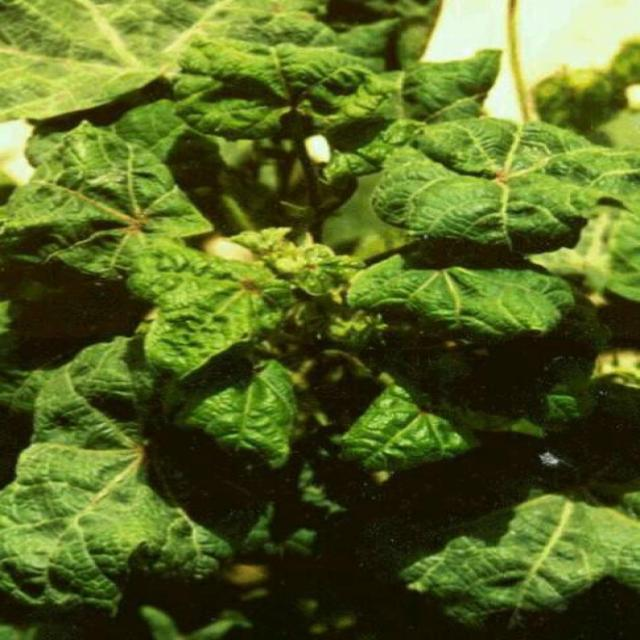Leaf Curl Virus: (61, 28, 573, 536)
